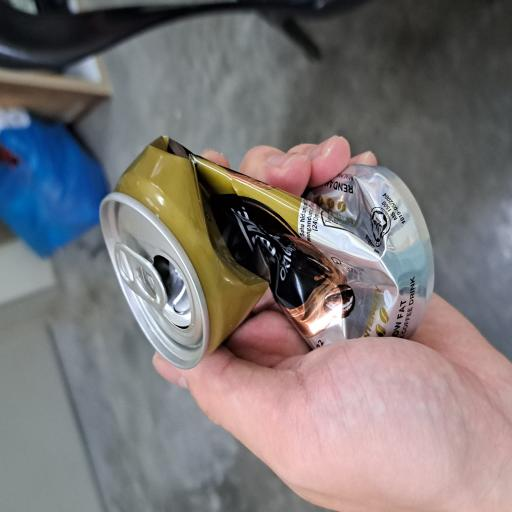can: (109, 130, 284, 512)
pop tab: (154, 149, 204, 225)
